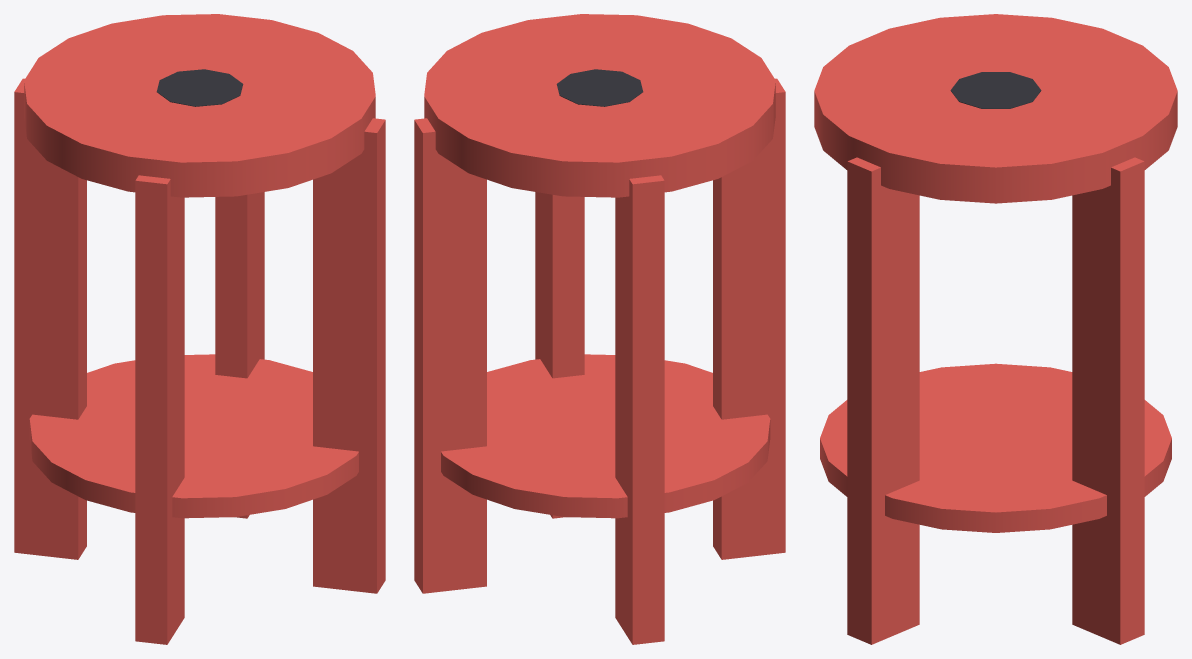
The model's file is SM_PlasticStool.fbx.
3 views of the same model, side by side, from view 1: azimuth 30°, elevation 25°; view 2: azimuth 150°, elevation 25°; view 3: azimuth 270°, elevation 25° (orthographic). The views are drawn at different scales.
Visible parts, largest first — view 1: SM_PlasticStool; view 2: SM_PlasticStool; view 3: SM_PlasticStool.
Boxes of the visible parts, x1,y1,x2,y2 form: SM_PlasticStool: (14, 14, 385, 644); SM_PlasticStool: (414, 14, 785, 644); SM_PlasticStool: (814, 14, 1177, 644).
Size of the model in its own units: 0.32 by 0.478 by 0.32.
